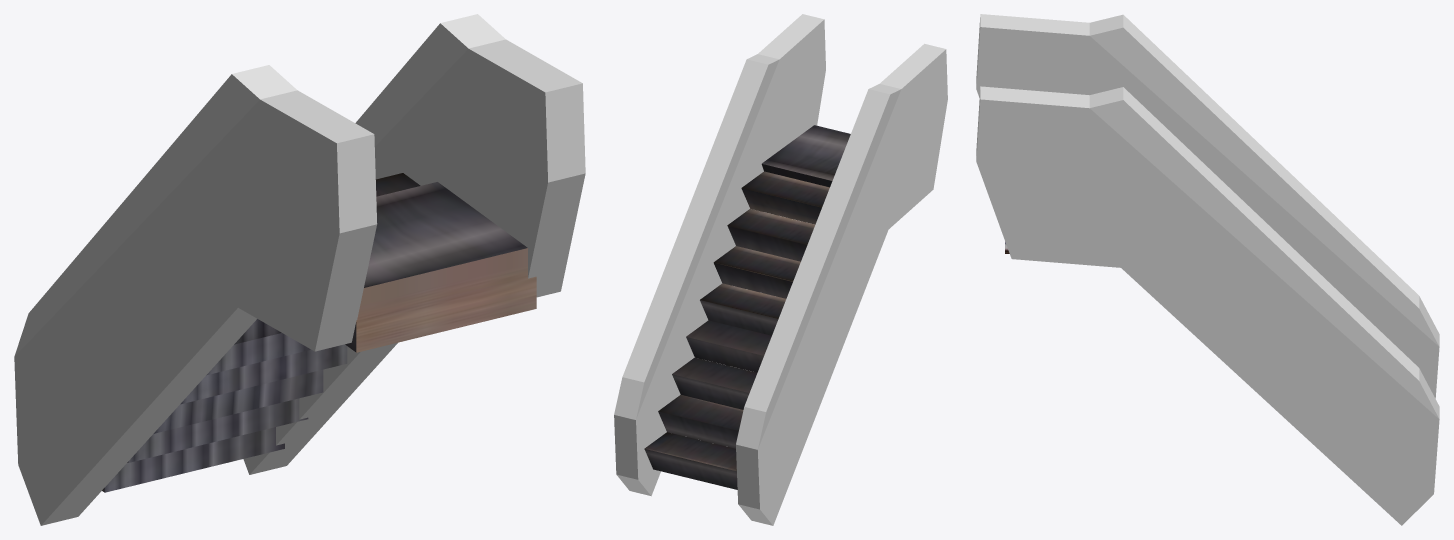
File: escalator.fbx
3 views of the same model, side by side, from view 1: azimuth 30°, elevation 25°; view 2: azimuth 150°, elevation 25°; view 3: azimuth 270°, elevation 25° (orthographic). The views are drawn at different scales.
Parts seen in each view (by area): view 1: Cube; view 2: Cube; view 3: Cube.
Part boxes in pixels (left/top/right/bottom): Cube: left=14, top=14, right=585, bottom=525; Cube: left=614, top=14, right=947, bottom=525; Cube: left=976, top=14, right=1439, bottom=525.
Size of the model in its own units: 602 by 1376 by 1354.
2 materials, 1 textured.
